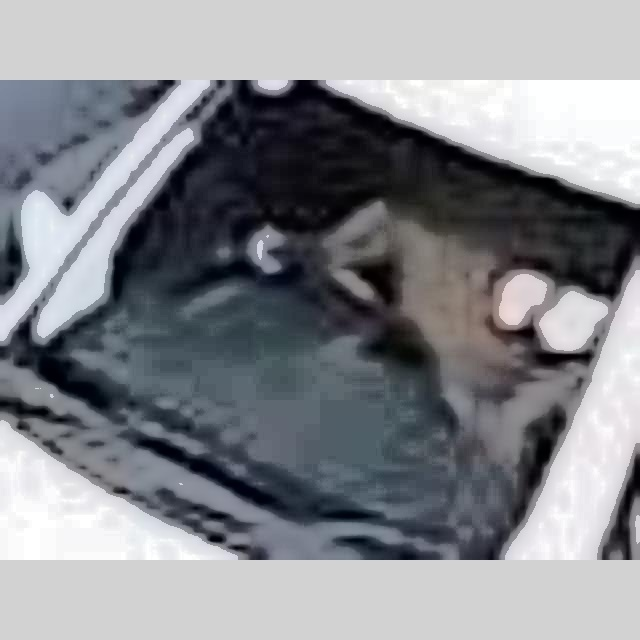tidak-pakai: (280, 168, 544, 448)
